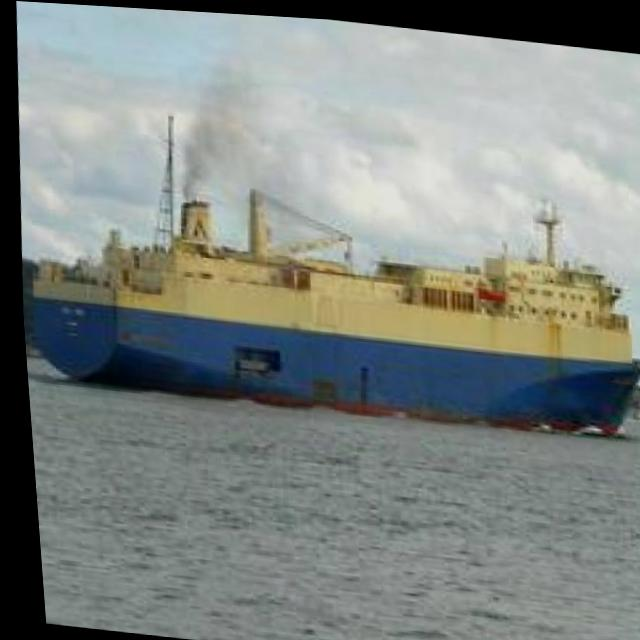ship2: (26, 186, 640, 431)
